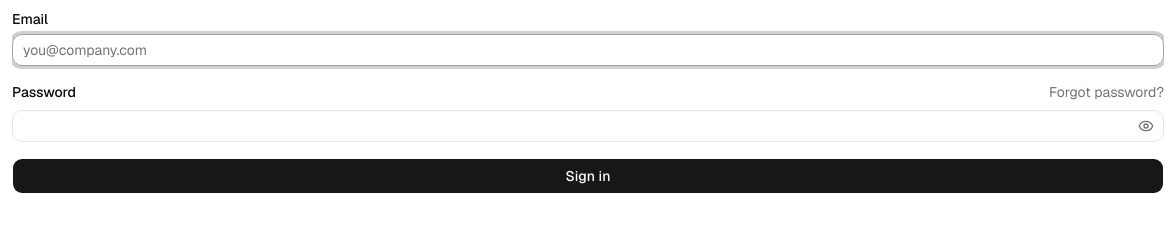
Scenario: LoginForm › sends credentials and the redirect target to the server
Type "ada@example.com" into the field labelled "Email". click: (588, 50)
box: [12,34,1164,66]
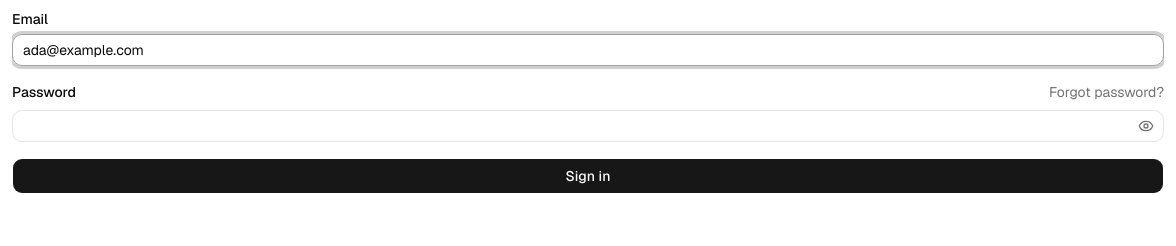
Type "hunter2hunter2" into the password field labelled "Password". click: (588, 126)
box: [12,110,1164,142]
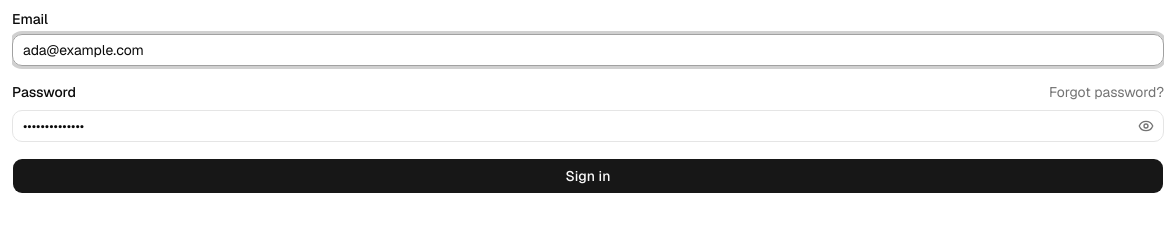
Click the button "Sign in". click: click(588, 176)
box: [12,158,1164,194]
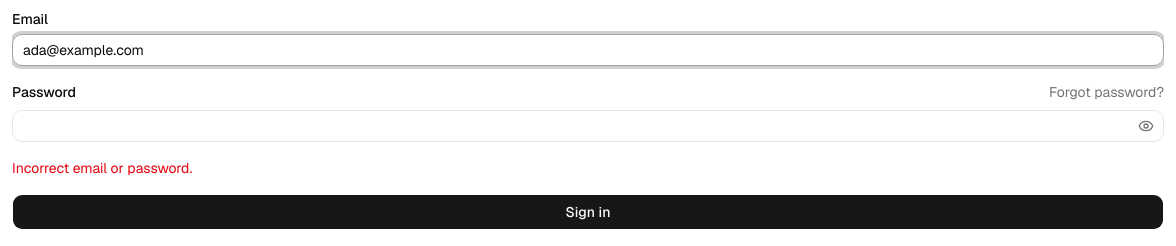
expect the text "Incorrect email or password." is shown: met, box [12,159,192,177]
